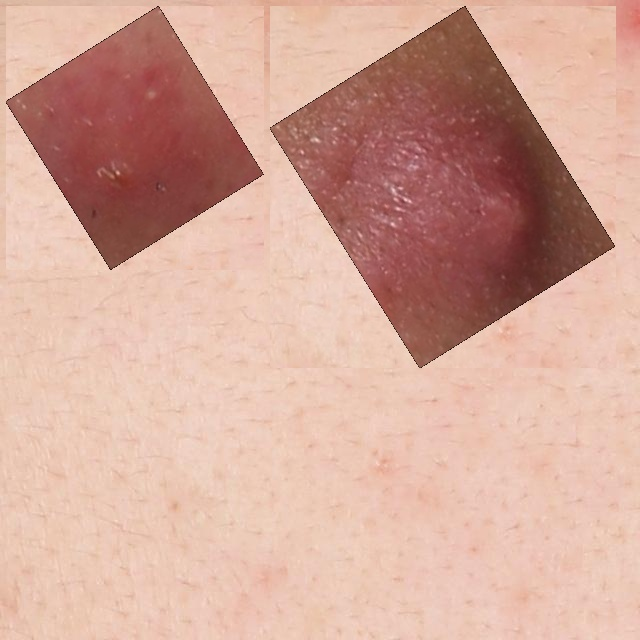nodule: (281, 17, 604, 357), (17, 17, 253, 258)
